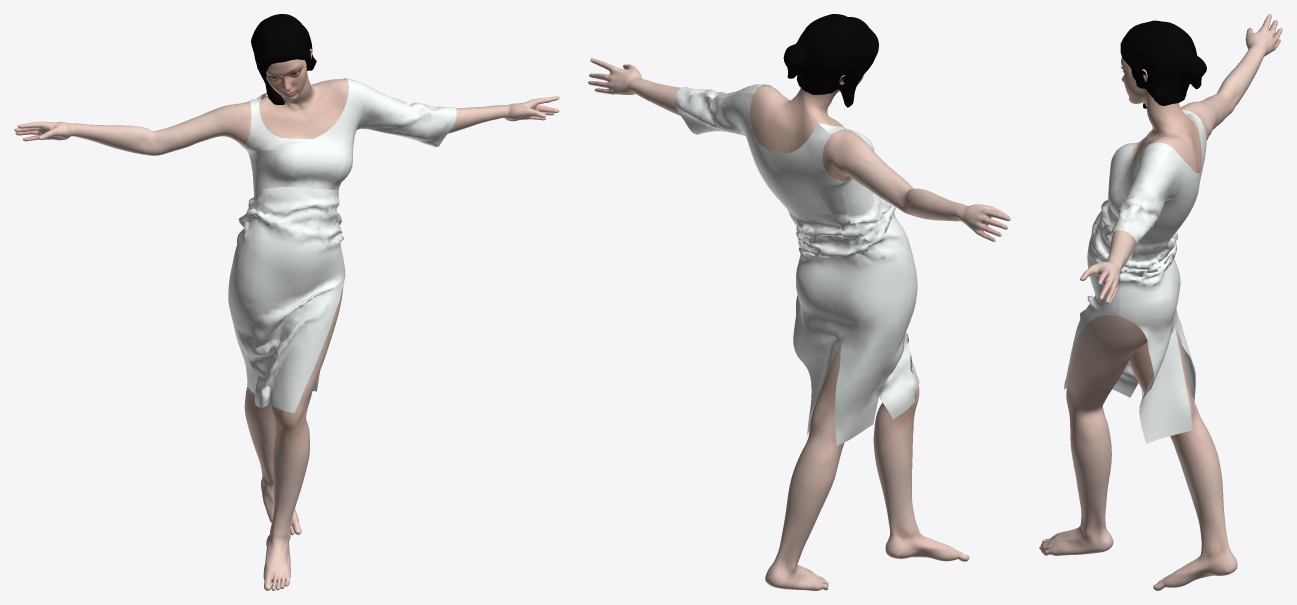
Rendered from Dynamic_2.obj.
3 views of the same model, side by side, from view 1: azimuth 30°, elevation 25°; view 2: azimuth 150°, elevation 25°; view 3: azimuth 270°, elevation 25° (orthographic). The views are drawn at different scales.
Bounding box in the file's own units: 1601 × 1717 × 679.
